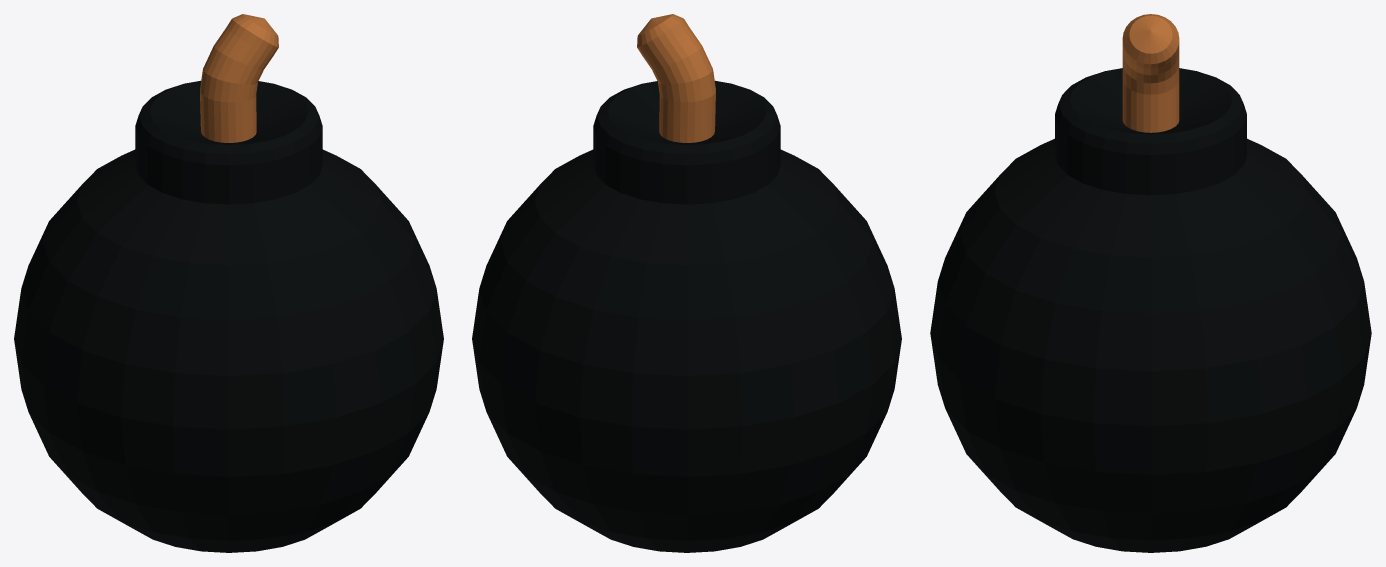
Rendered from powerupBomb.obj.
The picture shows the model from 3 angles, left to right: view 1: azimuth 30°, elevation 25°; view 2: azimuth 150°, elevation 25°; view 3: azimuth 270°, elevation 25°; orthographic projection. The views are drawn at different scales.
Parts seen in each view (by area): view 1: powerupBomb_Sphere.014; view 2: powerupBomb_Sphere.014; view 3: powerupBomb_Sphere.014.
Part boxes in pixels (x1,y1,x2,y2): powerupBomb_Sphere.014: (14, 14, 443, 552); powerupBomb_Sphere.014: (472, 14, 901, 552); powerupBomb_Sphere.014: (930, 14, 1371, 552).
Bounding box in the file's own units: 1 × 1.31 × 1.
